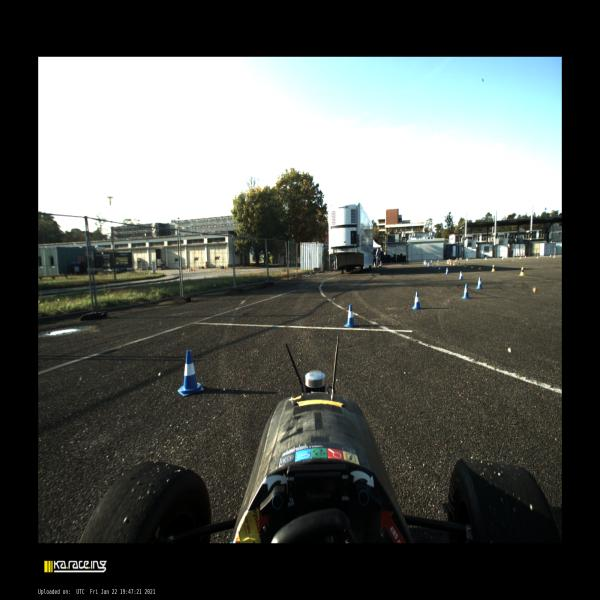blue_cone: (178, 350, 204, 397), (344, 304, 357, 328), (412, 292, 422, 310), (462, 284, 471, 299), (476, 277, 484, 289), (458, 271, 464, 279), (445, 267, 449, 274), (438, 266, 441, 271), (433, 265, 436, 269), (427, 263, 430, 267), (430, 263, 432, 268), (425, 262, 427, 265), (430, 260, 432, 263), (437, 259, 439, 262), (484, 257, 486, 260), (550, 255, 551, 258), (525, 256, 526, 258)
large_orange_cone: (424, 259, 426, 265), (448, 258, 450, 264)
yellow_cone: (519, 266, 524, 276), (491, 264, 495, 272), (478, 264, 481, 270), (464, 263, 467, 267), (458, 262, 461, 266), (453, 261, 455, 266), (471, 264, 473, 268), (536, 255, 538, 259), (554, 254, 556, 258), (502, 256, 504, 260), (455, 259, 457, 262), (519, 256, 521, 259), (450, 260, 451, 265), (447, 260, 448, 264), (485, 258, 487, 260), (467, 258, 468, 261)
